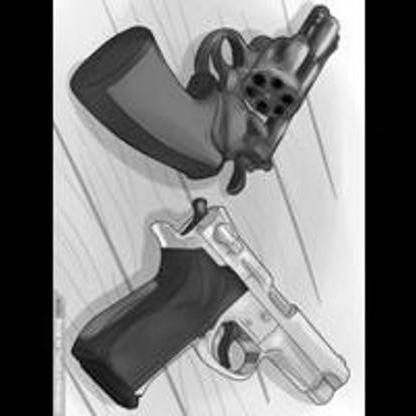weapon: (53, 198, 356, 413), (73, 3, 345, 199)
